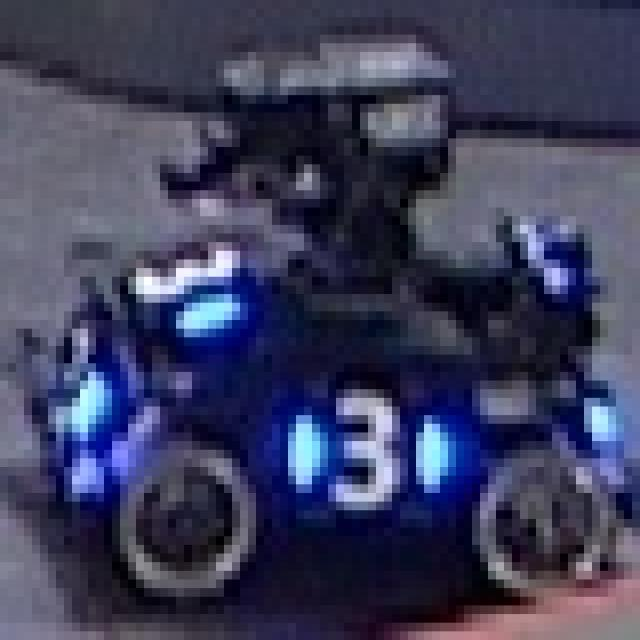B3: (272, 389, 456, 519), (8, 312, 120, 484), (128, 225, 256, 346)
